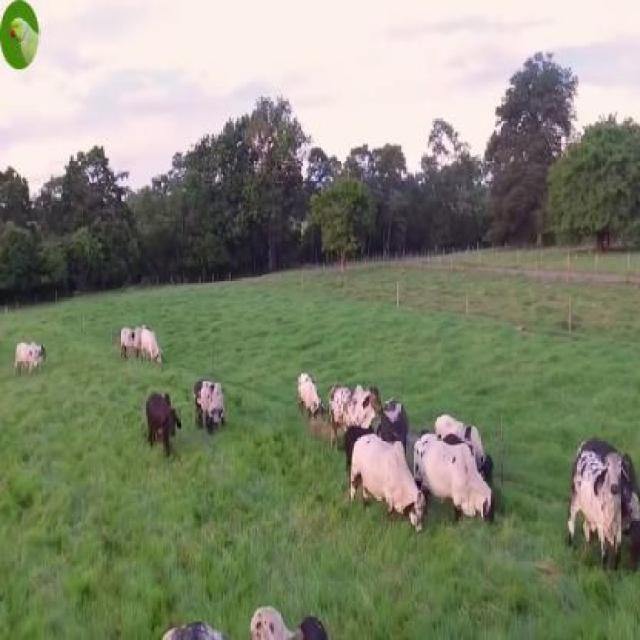Cow: (349, 434, 425, 534), (572, 456, 630, 570)
